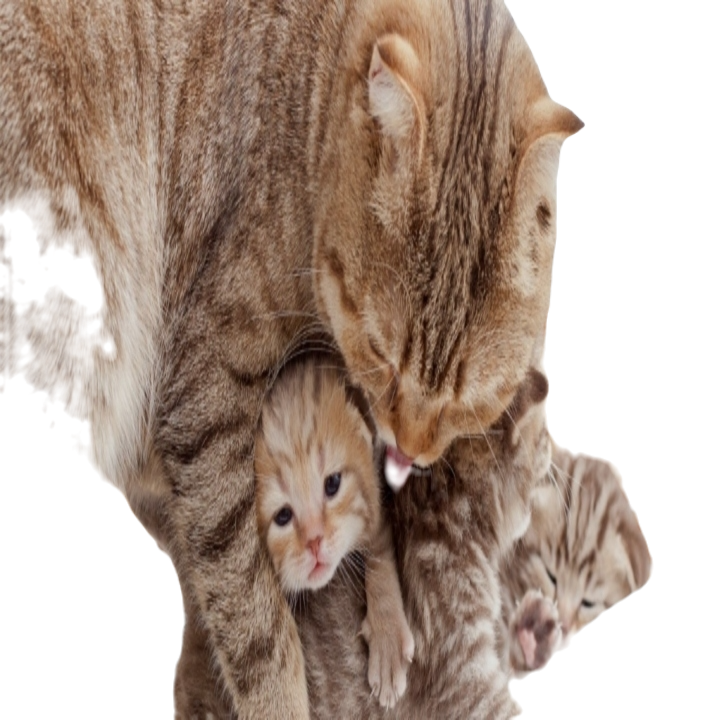Cat: (0, 0, 657, 708)
